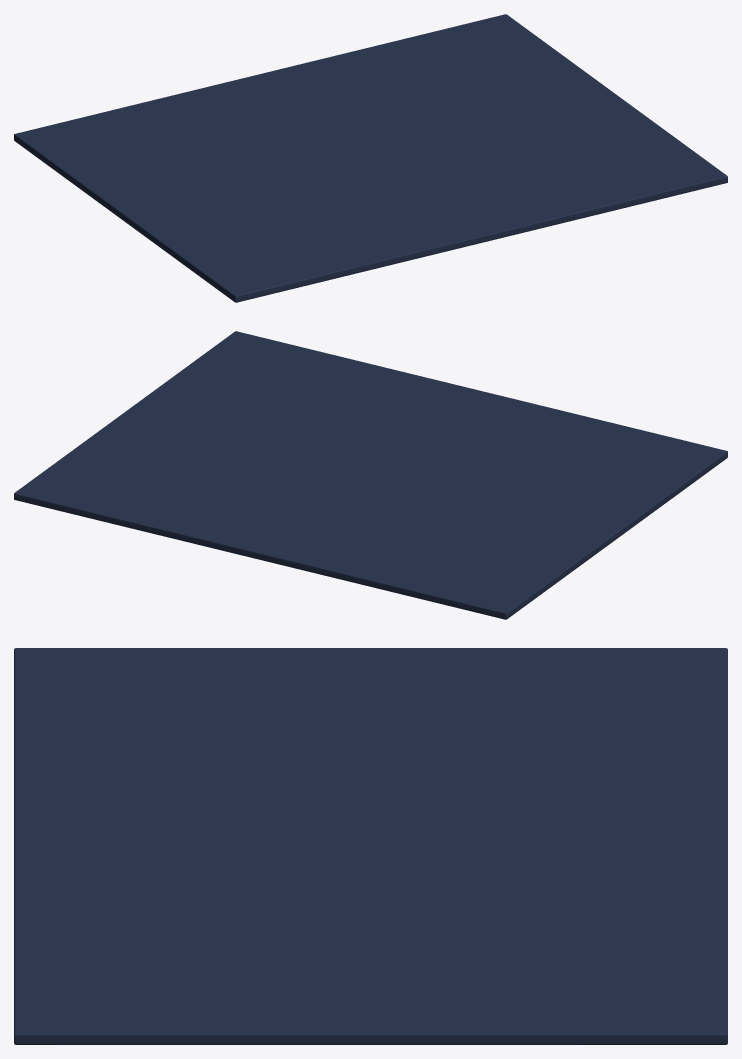
Rendered from arcade-ceiling.glb.
3 views of the same model, one above another, from view 1: azimuth 30°, elevation 25°; view 2: azimuth 150°, elevation 25°; view 3: azimuth 270°, elevation 25° (orthographic). The views are drawn at different scales.
Parts seen in each view (by area): view 1: Ceiling; view 2: Ceiling; view 3: Ceiling.
Boxes of the visible parts, x1,y1,x2,y2 form: Ceiling: [14, 14, 727, 302]; Ceiling: [14, 331, 727, 619]; Ceiling: [14, 648, 727, 1044].
Size of the model in its own units: 18.2 by 0.3075 by 14.2.
